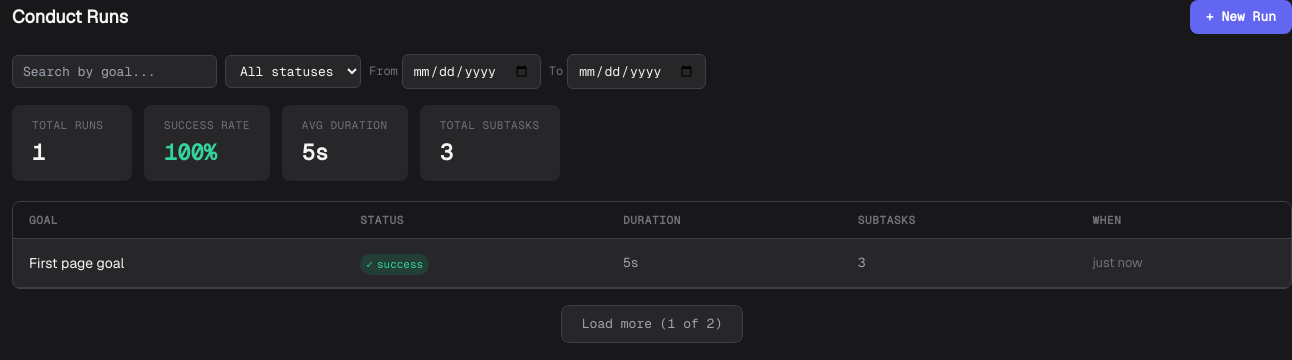
Test: RunsPage Load More appends the next page
The width and height of the screenshot is (1292, 360).
Expected: the text "First page goal" is shown, [13,238,344,288]
Click the button "Load more (1 of 2)". click: coordinates (652, 324)
box: [561,305,743,342]
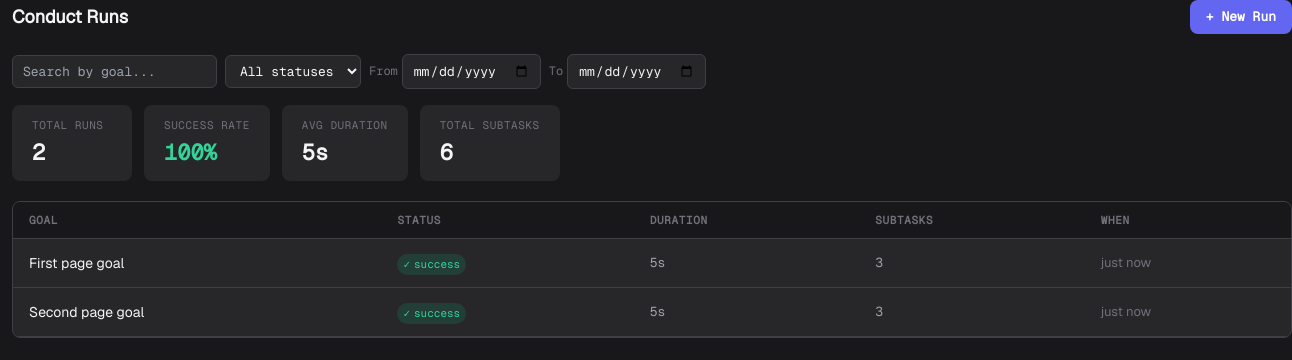
Expected: the text "First page goal" is shown, [13,238,381,288]
Now the text "Second page goal" is shown, box [13,288,381,336]
Now the button "Load more" is gone
